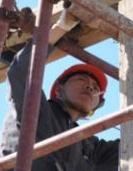hard-hat: (50, 64, 108, 110)
